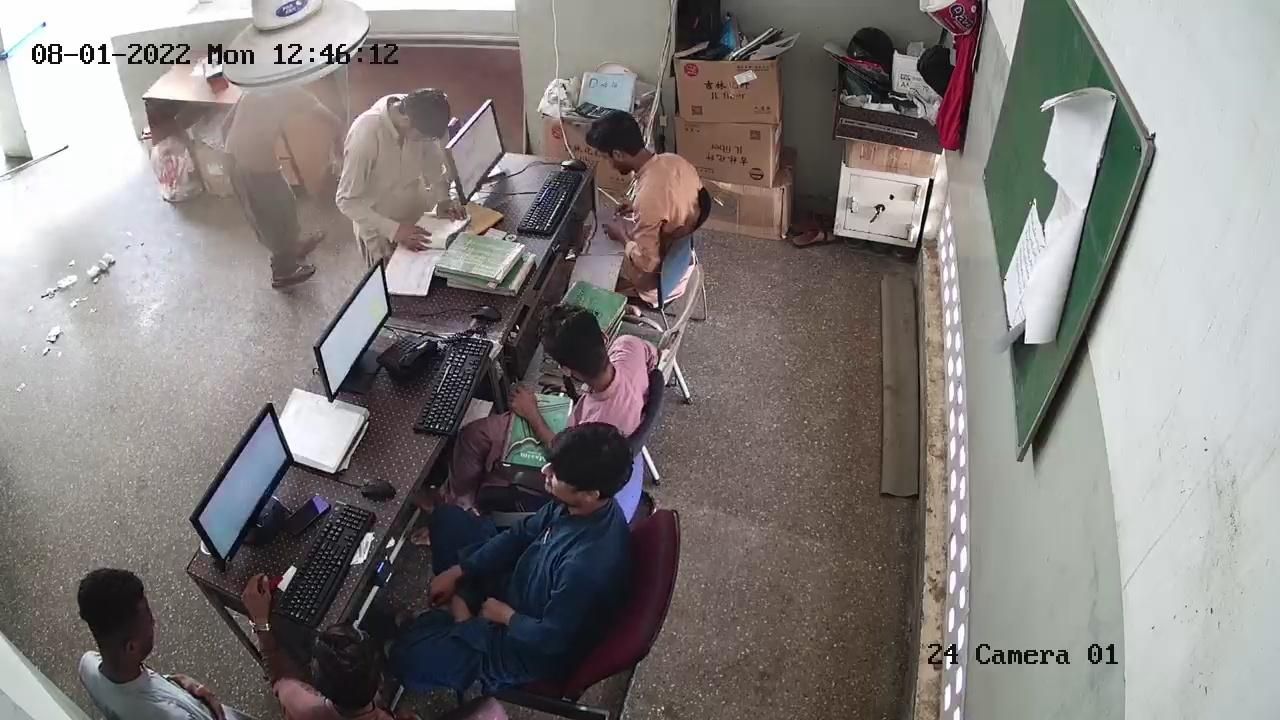person: (430, 420, 634, 708), (71, 565, 225, 720), (349, 77, 449, 257), (241, 590, 384, 715), (582, 102, 685, 260), (232, 80, 304, 300), (537, 298, 645, 418)
